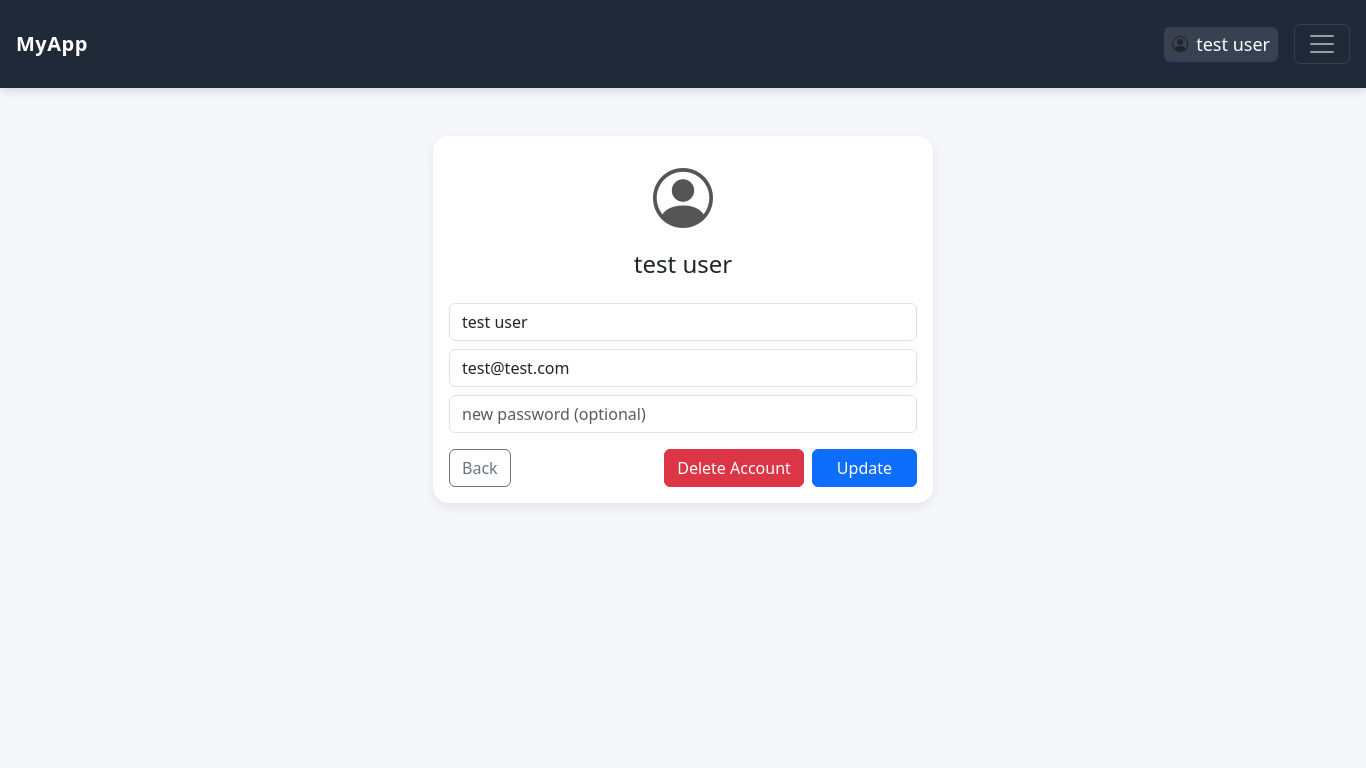
it: Profile › Deleteモーダル表示
Expected: the 1st field showing "test user" is shown, [449,303,917,341]
Step 1. Click the button "Delete Account" → (734,468), box [664,449,804,487]
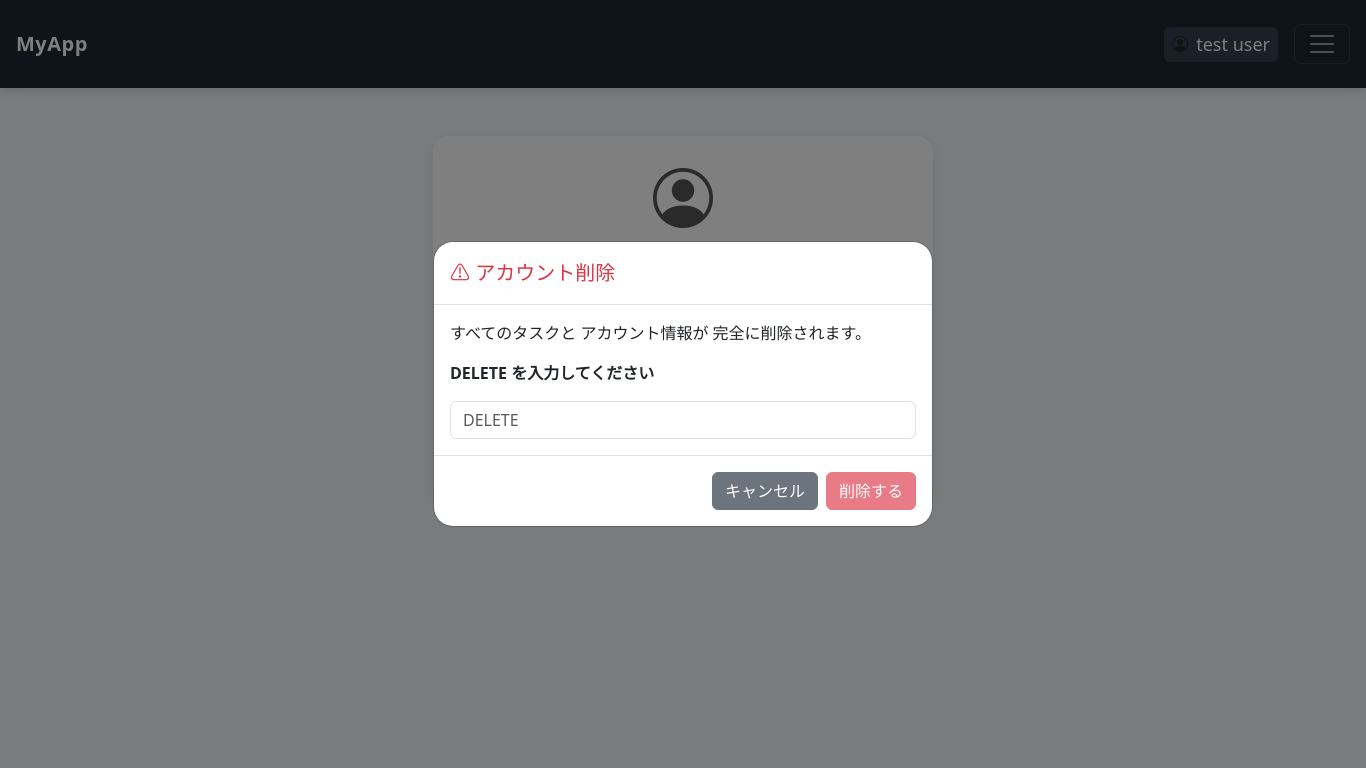
Now the text "DELETE を入力してください" is shown, box [450,362,654,384]
